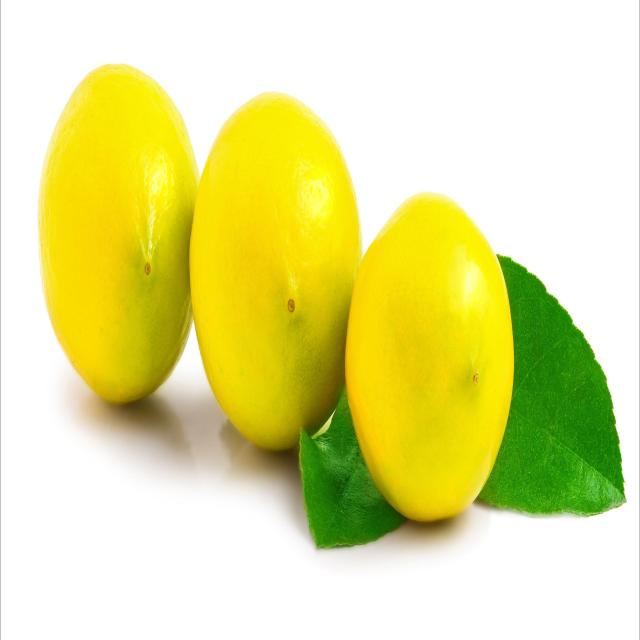lemon: (341, 186, 519, 536), (35, 54, 204, 418)
